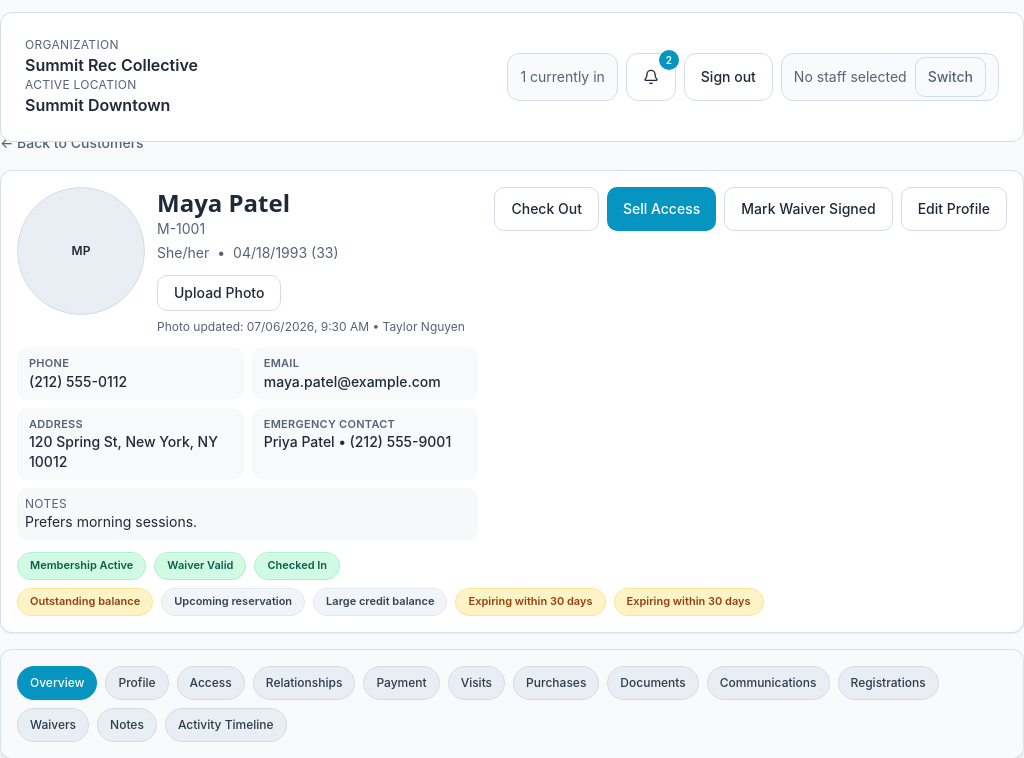
Test: CustomerDetailPage › Grant Comp Access is not shown in Access Products section
Click the button "Switch". click: (950, 77)
box: [915,57,986,97]
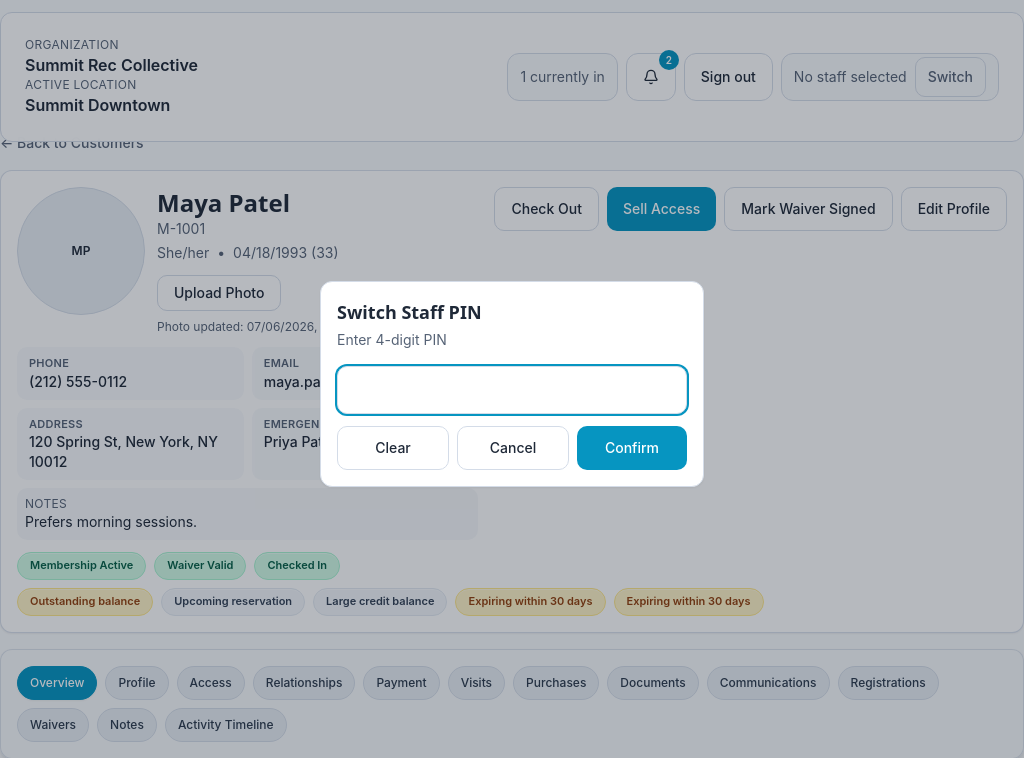
Type "2222" into the password field named "Staff PIN input". click: (512, 390)
box: [337,366,687,414]
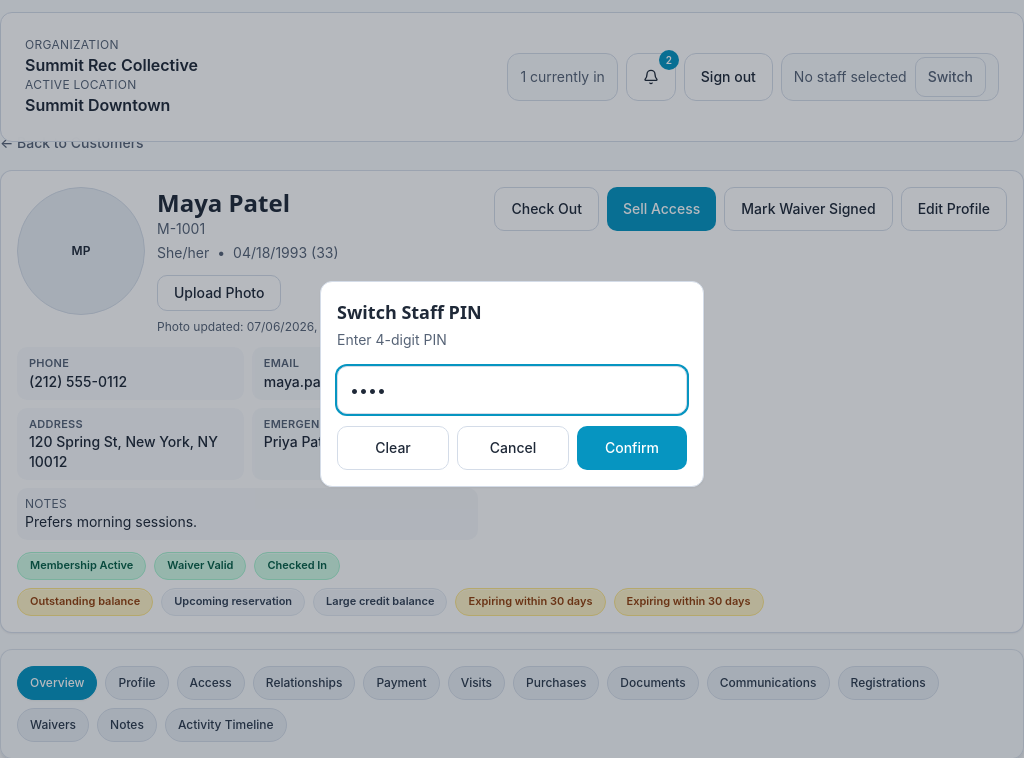
Click the button "Confirm". click: (632, 448)
box: [577,426,687,470]
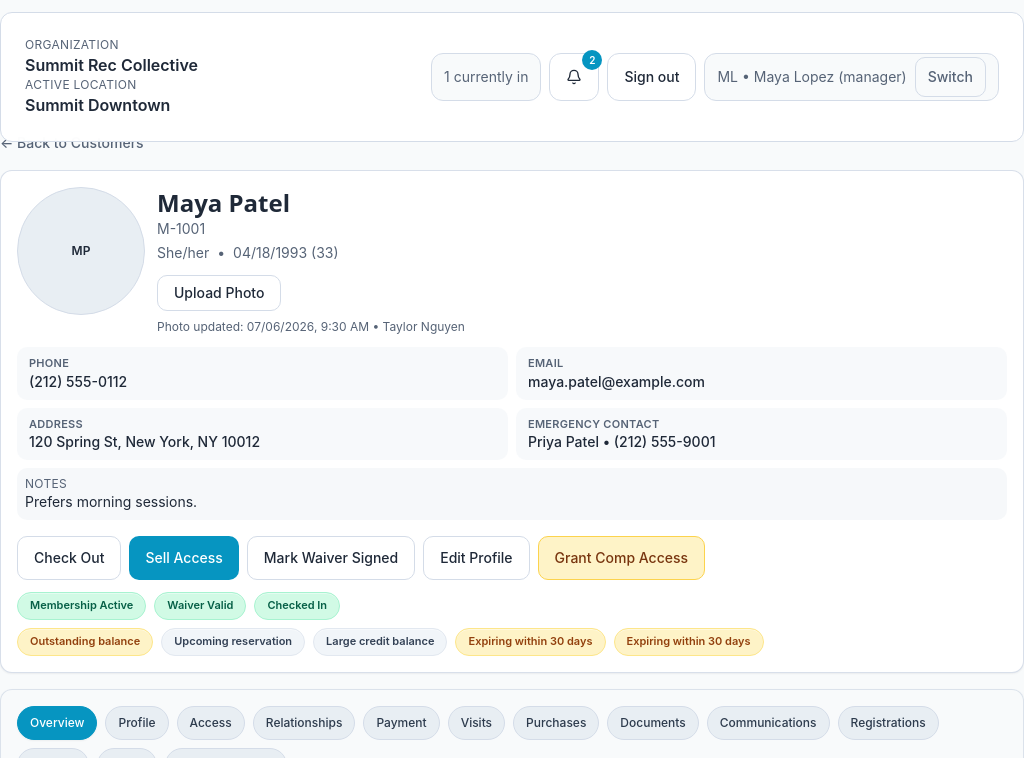
Expected: the button "Grant Comp Access" is shown, [538,536,705,580]
